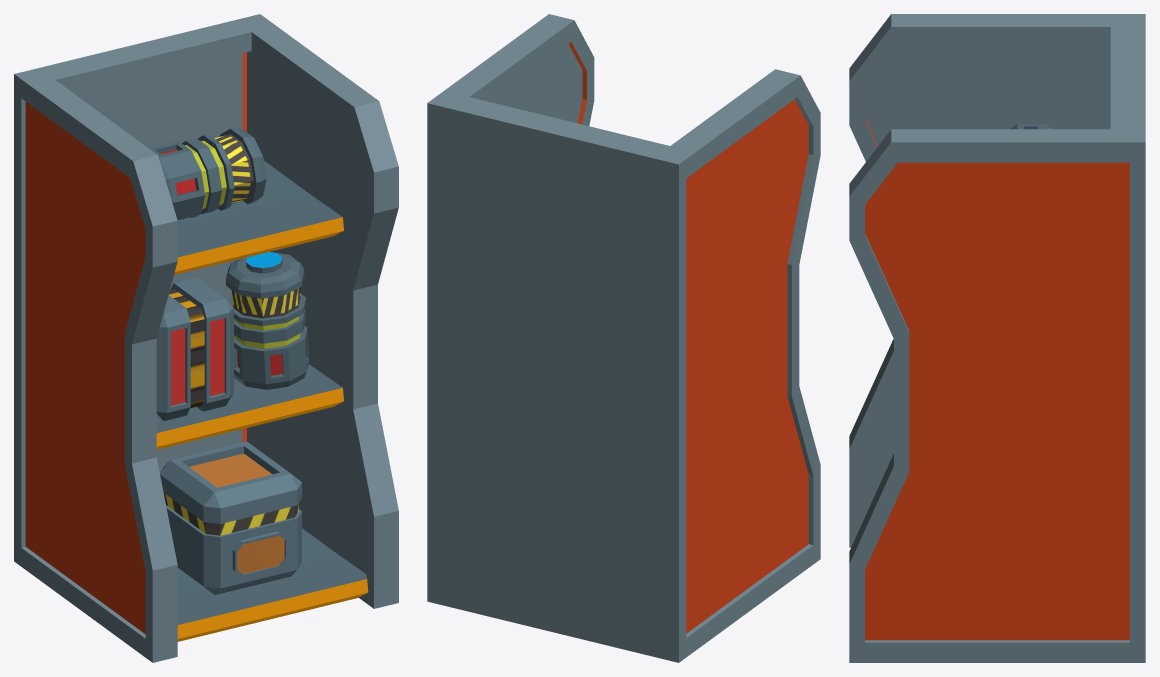
The model's file is Stand with assets  .fbx.
3 renders of one model, left to right at view 1: azimuth 30°, elevation 25°; view 2: azimuth 150°, elevation 25°; view 3: azimuth 270°, elevation 25°, orthographic. The views are drawn at different scales.
Visible parts, largest first — view 1: Cube.088, Cube.099, Cylinder.024, Cube.098, Cylinder.023; view 2: Cube.088; view 3: Cube.088.
Part boxes in pixels (bbox=[...]): Cube.088: bbox=[14, 14, 398, 662]; Cube.099: bbox=[160, 441, 301, 595]; Cylinder.024: bbox=[225, 252, 309, 389]; Cube.098: bbox=[156, 277, 233, 420]; Cylinder.023: bbox=[149, 127, 266, 220]; Cube.088: bbox=[427, 14, 820, 662]; Cube.088: bbox=[849, 14, 1145, 662].
Size of the model in its own units: 0.8455 by 1.61 by 0.8253.
